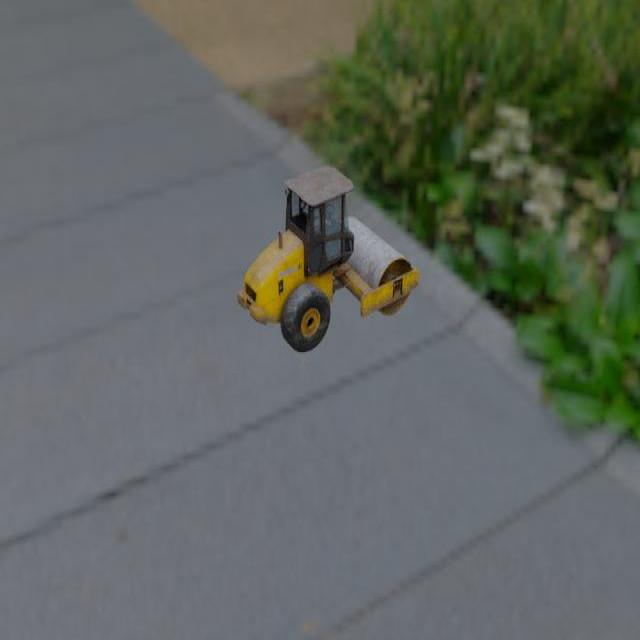Roller: (236, 165, 419, 352)
